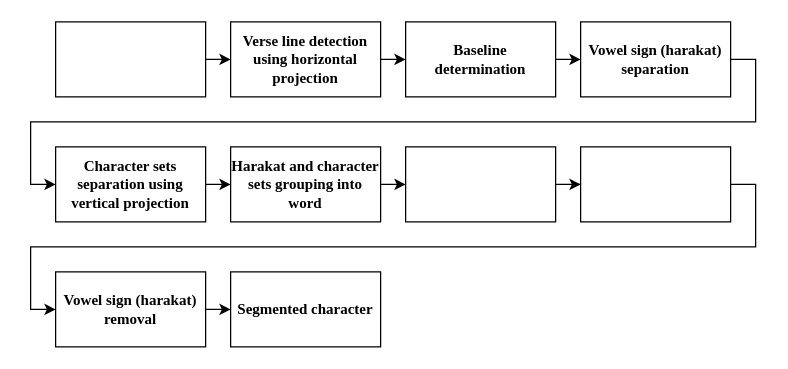
Some shapes in this 788 by 369 pixel diagram are drawn without their labels. Each missing label, with the centre of its shape:
Input image: [130,59]
Processes words that have marker characters: [480,184]
Segmenting character based on harakat: [655,184]
